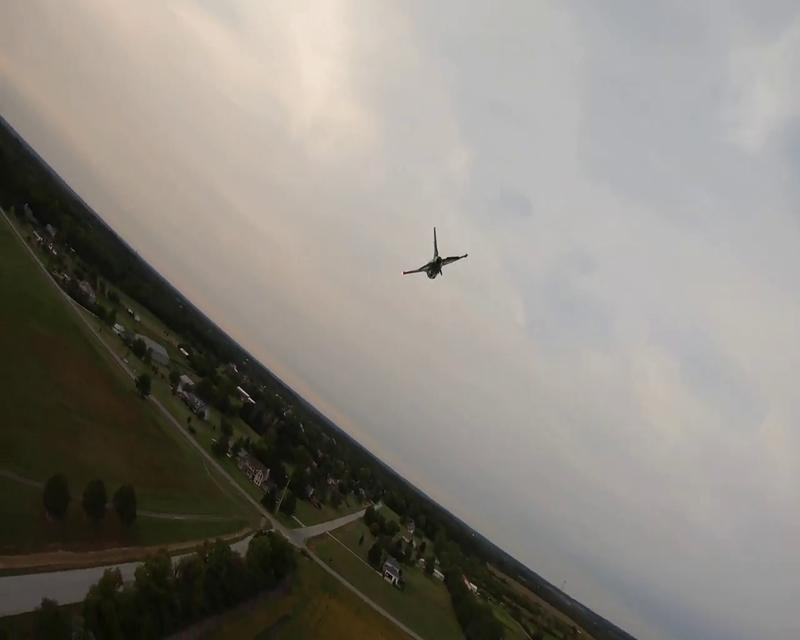UAV: (401, 225, 468, 280)
